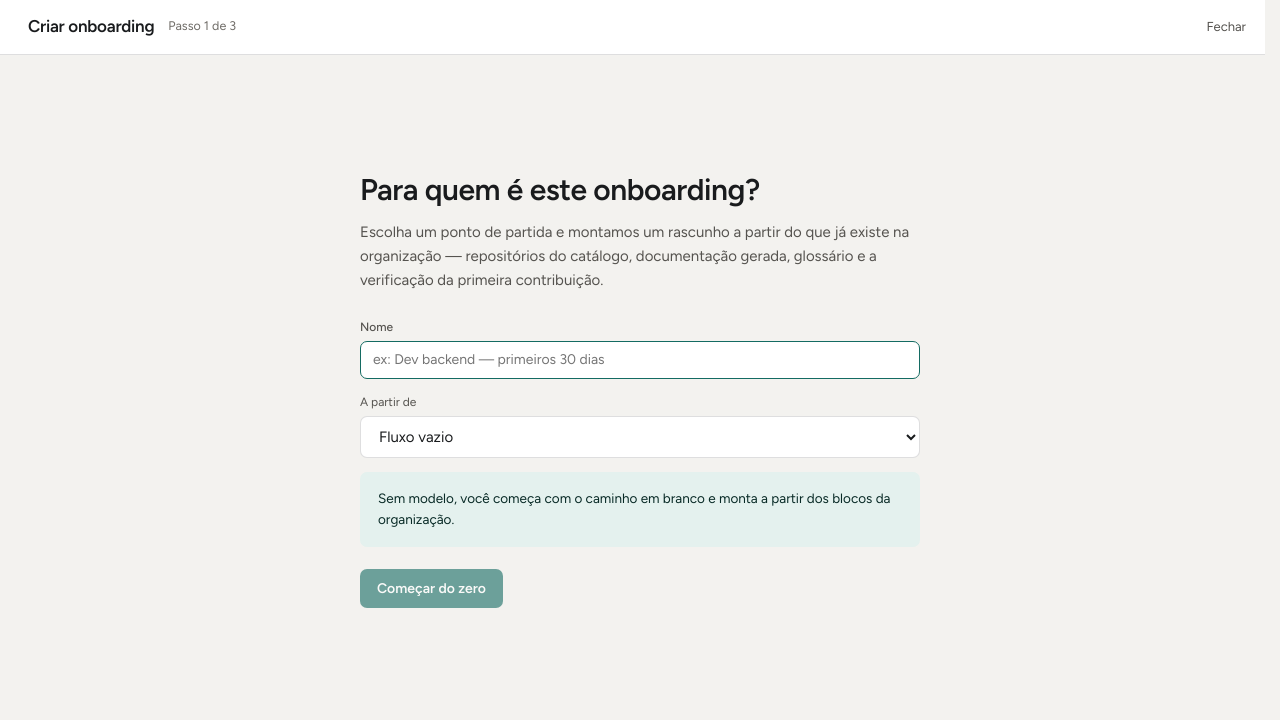
Test case: OnboardingComposer › seeds the draft from the chosen template
In the field labelled "Nome": (640, 360) 360,341 -> 920,379, type "Dev backend — 30 dias"
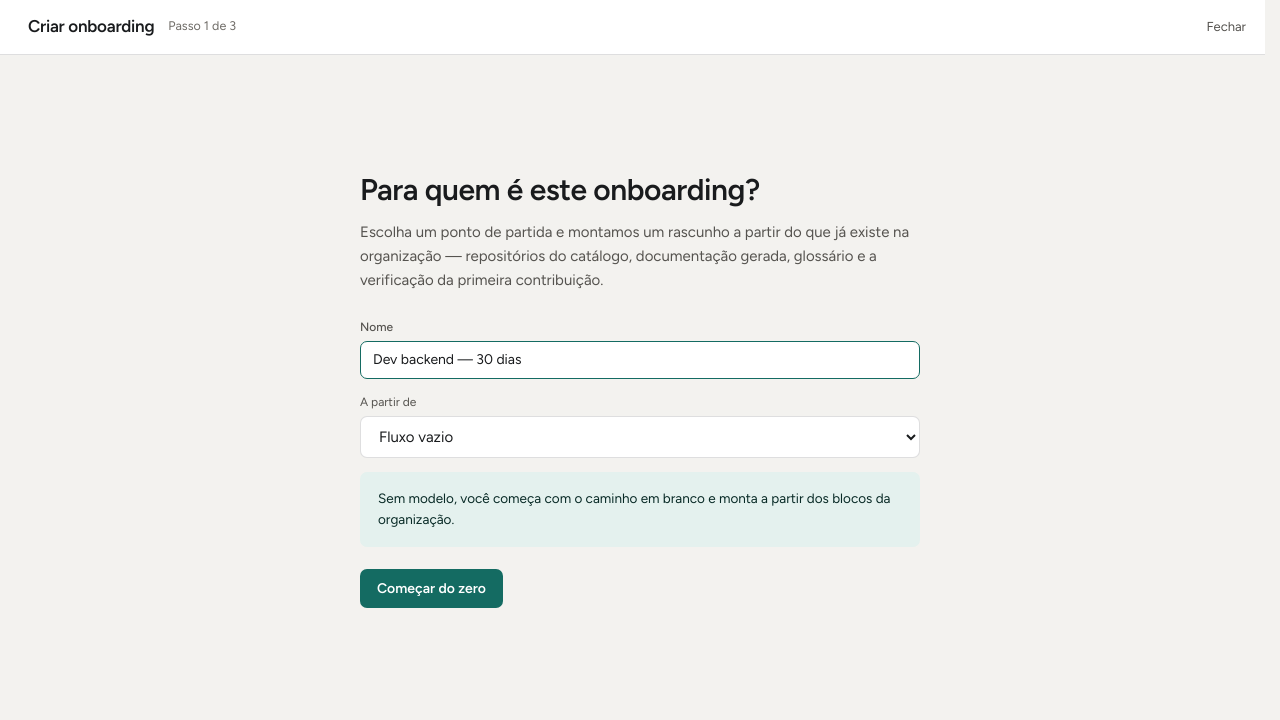
Select "Dev backend" in the dropdown labelled "A partir de": (640, 437) 360,416 -> 920,458
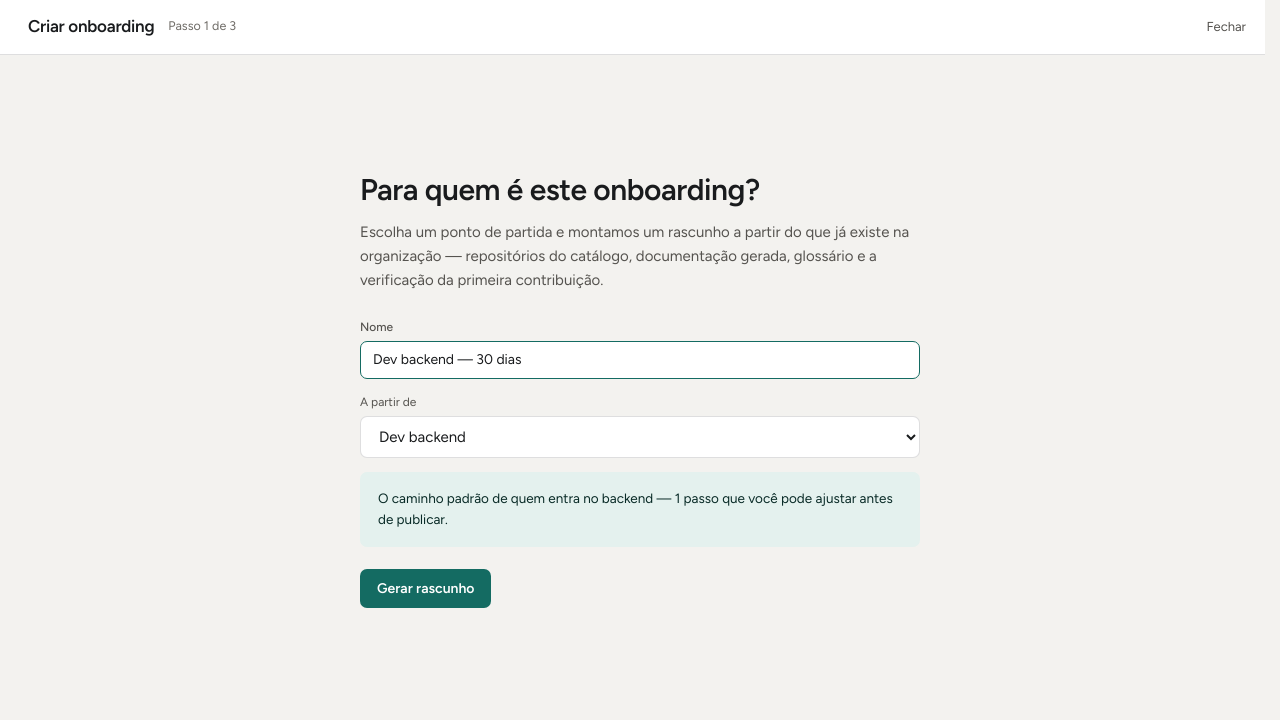
Click the button "Gerar rascunho": click(426, 588) 360,569 -> 492,608
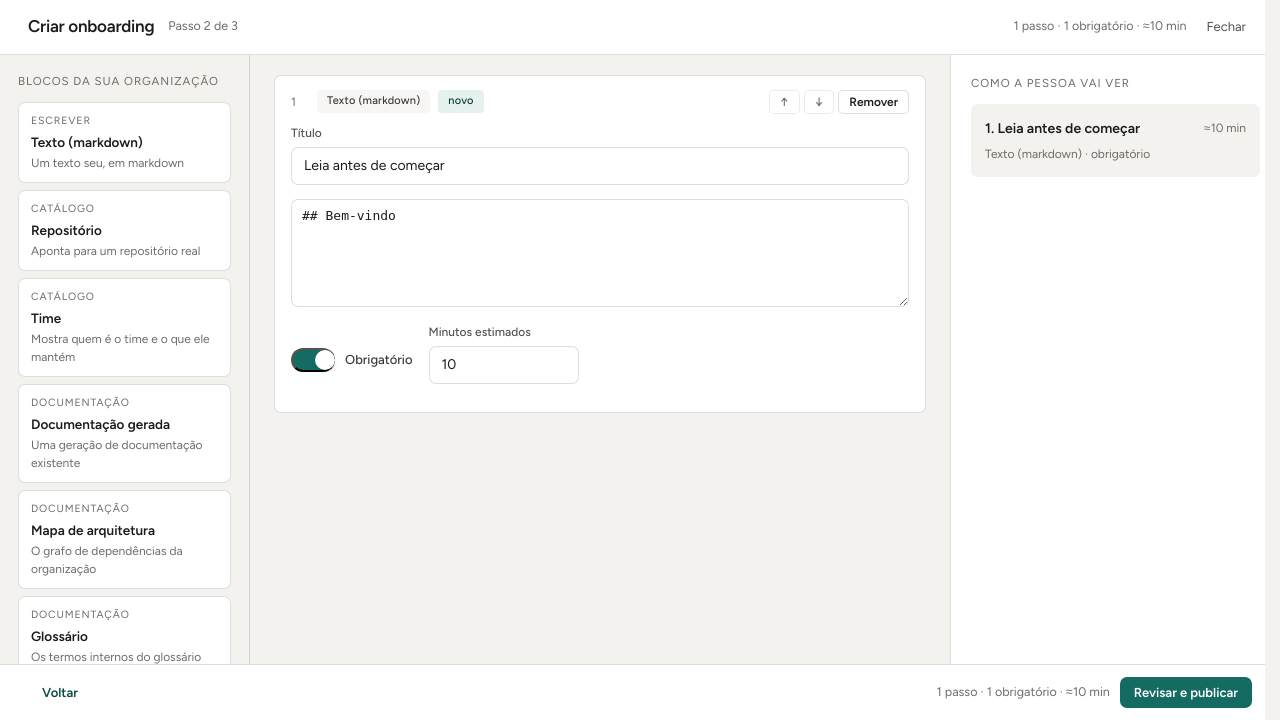
Check: the text "Blocos da sua organização" is shown, box 18,72 -> 231,90
Check: the field showing "Leia antes de começar" is shown, box 291,146 -> 909,184
Check: the text "1. Leia antes de começar" is shown, box 985,118 -> 1140,139
